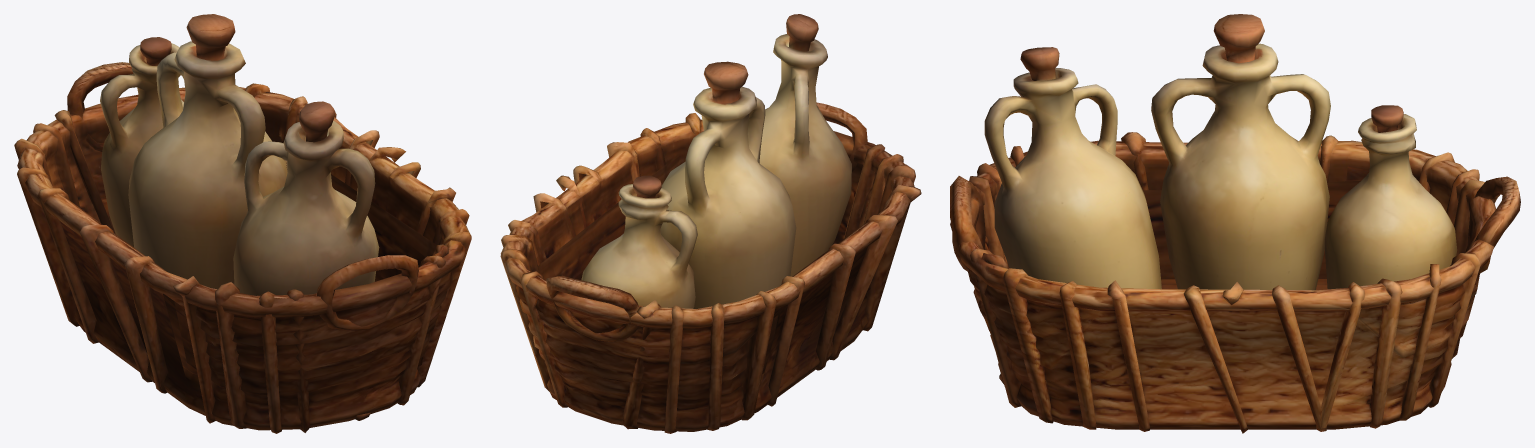
3 views of the same model, side by side, from view 1: azimuth 30°, elevation 25°; view 2: azimuth 150°, elevation 25°; view 3: azimuth 270°, elevation 25° (orthographic). The views are drawn at different scales.
Parts seen in each view (by area): view 1: tripo_node_2a9da0b8-208a-4c81-84e0-3e5649653462; view 2: tripo_node_2a9da0b8-208a-4c81-84e0-3e5649653462; view 3: tripo_node_2a9da0b8-208a-4c81-84e0-3e5649653462.
Part boxes in pixels (bbox=[...]): tripo_node_2a9da0b8-208a-4c81-84e0-3e5649653462: bbox=[14, 14, 471, 433]; tripo_node_2a9da0b8-208a-4c81-84e0-3e5649653462: bbox=[500, 14, 921, 433]; tripo_node_2a9da0b8-208a-4c81-84e0-3e5649653462: bbox=[950, 14, 1520, 433].
Size of the model in its own units: 0.6895 by 0.6582 by 0.998.
1 material, 1 textured.
